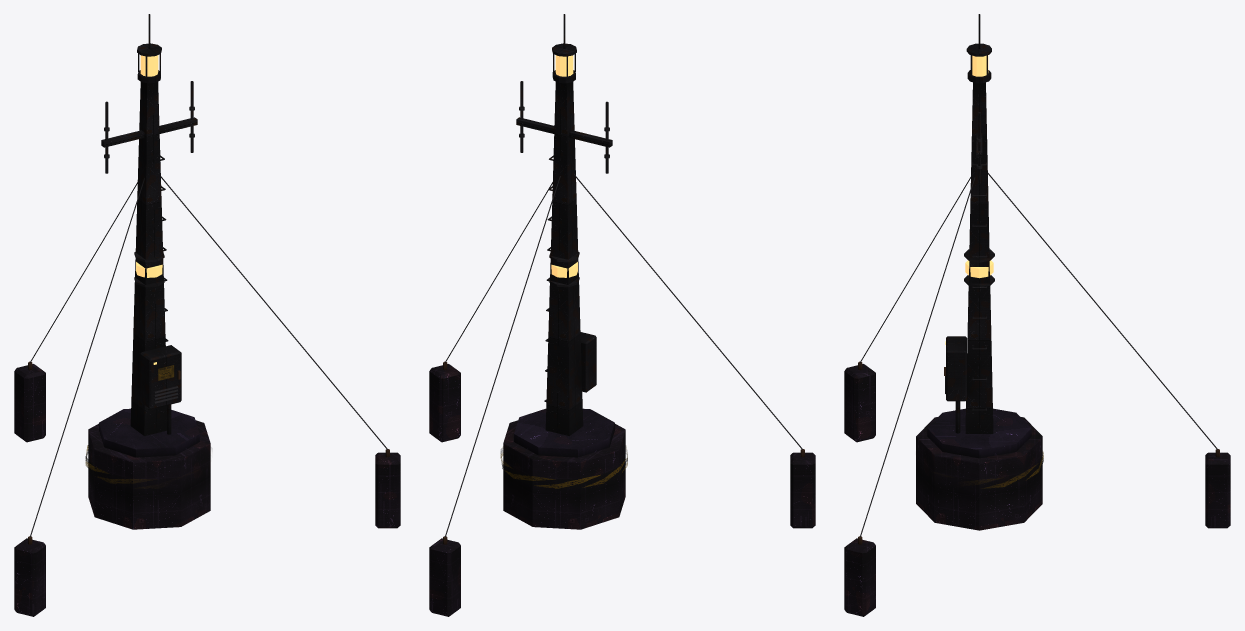
The model's file is relay_pylon.glb.
3 renders of one model, left to right at view 1: azimuth 30°, elevation 25°; view 2: azimuth 150°, elevation 25°; view 3: azimuth 270°, elevation 25°, orthographic.
Parts seen in each view (by area): view 1: body, decals; view 2: body, decals; view 3: body, decals.
Part boxes in pixels (<box>): body: <box>14,14,400,616</box>; decals: <box>85,364,174,487</box>; body: <box>429,14,815,616</box>; decals: <box>500,446,627,488</box>; body: <box>844,14,1230,616</box>; decals: <box>955,452,1043,488</box>.
Size of what is drawn, in the model's own units: 5.97 by 7.55 by 5.18.
9 materials, 6 textured.
